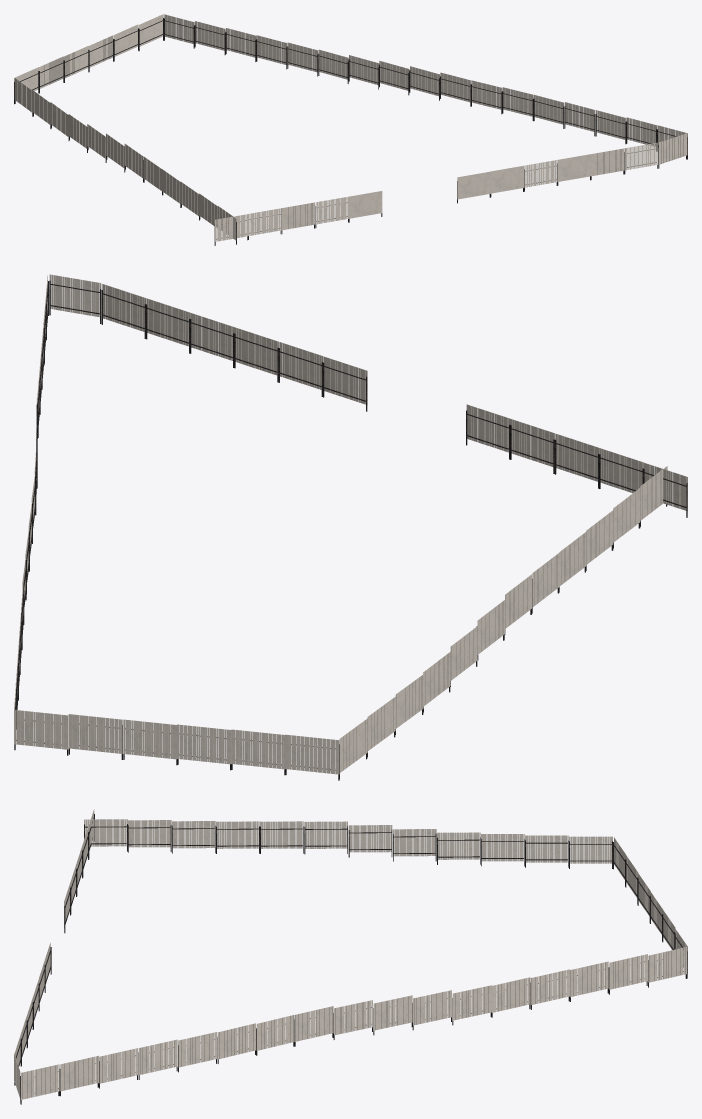
The model's file is Забор_Join.fbx.
3 views of the same model, one above another, from view 1: azimuth 30°, elevation 25°; view 2: azimuth 150°, elevation 25°; view 3: azimuth 270°, elevation 25° (orthographic). The views are drawn at different scales.
Parts seen in each view (by area): view 1: Забор_Join; view 2: Забор_Join; view 3: Забор_Join.
Part boxes in pixels (x1=…): Забор_Join: x1=14, y1=14, x2=687, y2=245; Забор_Join: x1=14, y1=274, x2=687, y2=780; Забор_Join: x1=14, y1=809, x2=687, y2=1104.
Bounding box in the file's own units: 3551 × 352 × 3831.
2 materials, 2 textured.
